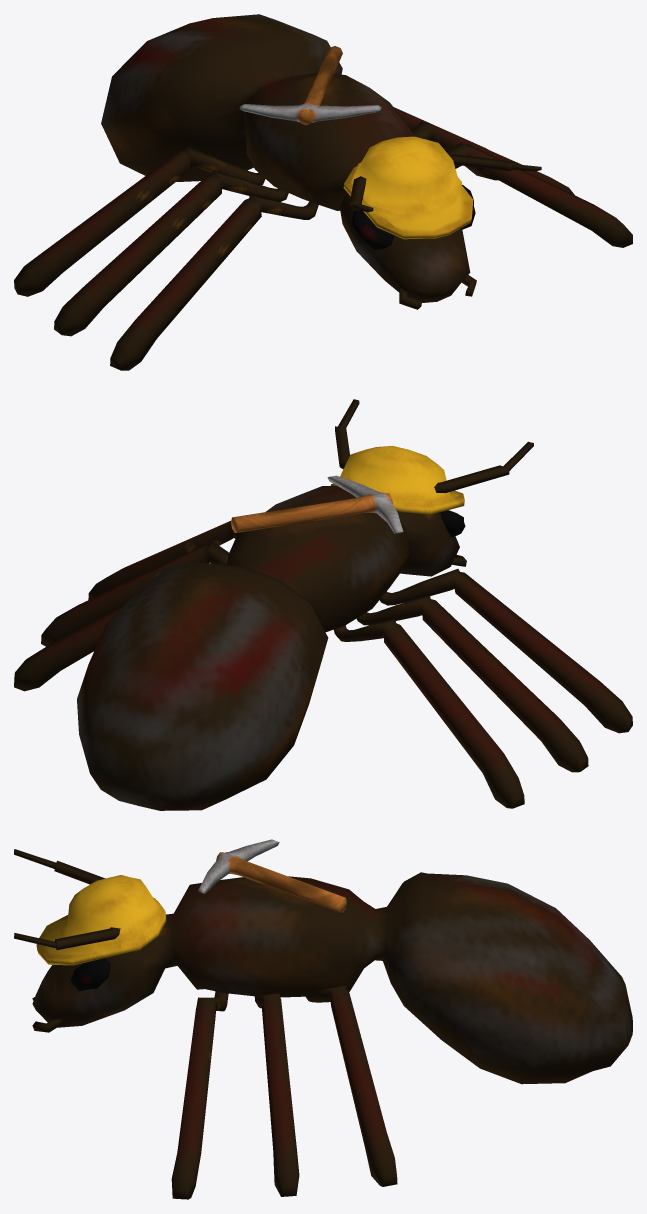
The model's file is CH_WorkerAnt.fbx.
3 renders of one model, top to bottom at view 1: azimuth 30°, elevation 25°; view 2: azimuth 150°, elevation 25°; view 3: azimuth 270°, elevation 25°, orthographic. The views are drawn at different scales.
Visible parts, largest first — view 1: SM_WorkerAnt; view 2: SM_WorkerAnt; view 3: SM_WorkerAnt.
Boxes of the visible parts, <box> form: SM_WorkerAnt: <box>14,14,632,370</box>; SM_WorkerAnt: <box>14,399,632,810</box>; SM_WorkerAnt: <box>14,839,632,1199</box>.
Bounding box in the file's own units: 1 × 0.3527 × 1.
